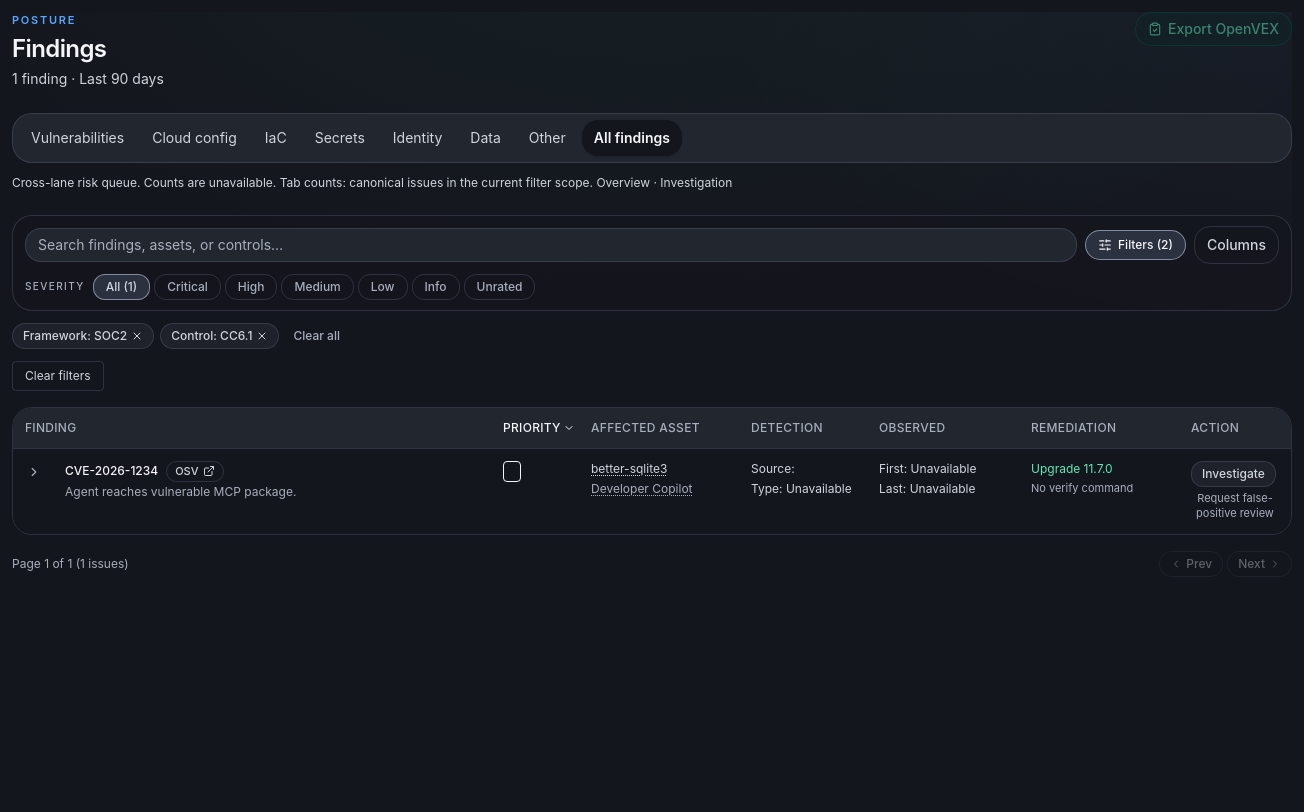
Test: FindingsPage › honours the compliance drill-through framework/control URL and surfaces removable chips
Check: the button with test id "findings-chip-control" reads "Control: CC6.1", box [160,322,279,348]
Step 1. Click the button with test id "findings-chip-framework" → [83, 336], box [12,322,154,348]
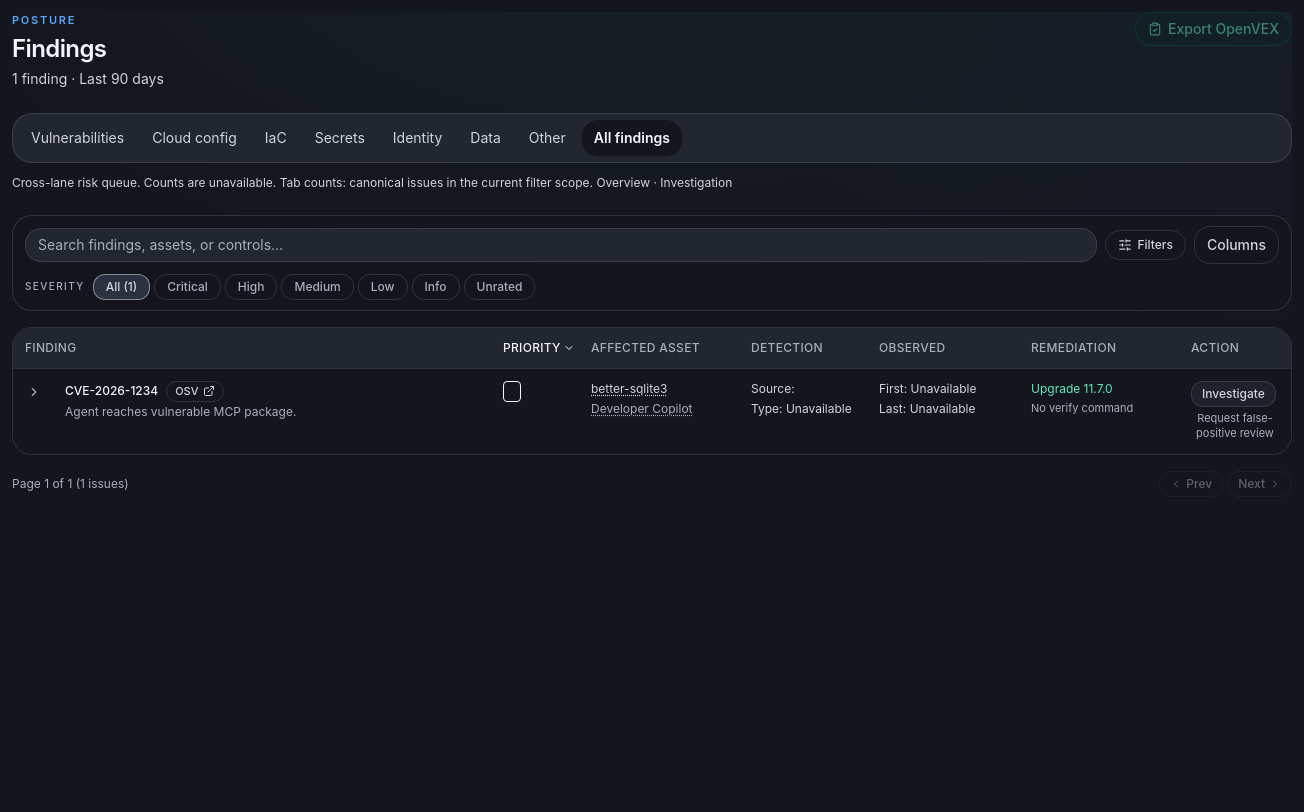
Check: the button with test id "findings-chip-framework" is gone
Check: the button with test id "findings-chip-control" is gone
